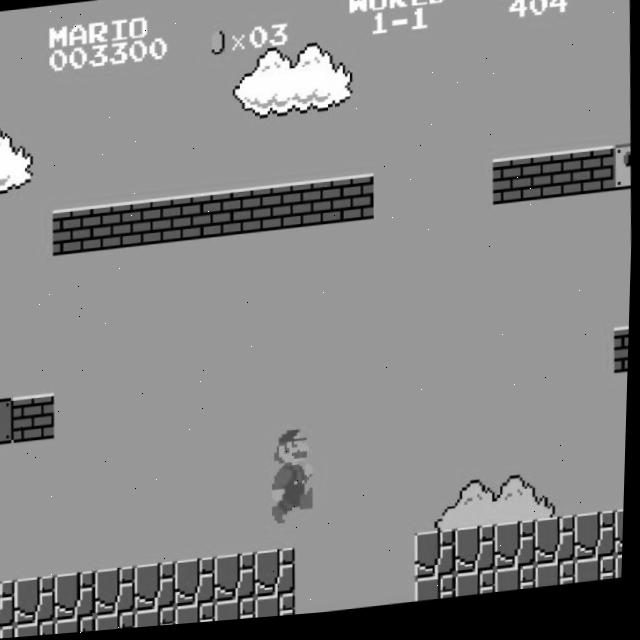1- brick_block: (14, 393, 58, 443), (92, 203, 136, 252), (132, 199, 176, 248), (172, 195, 216, 244), (212, 192, 256, 241), (492, 164, 536, 213), (532, 160, 576, 209), (52, 208, 96, 256), (252, 188, 296, 236), (292, 184, 336, 232), (332, 180, 376, 228), (572, 156, 616, 204), (614, 335, 631, 383)
13- mystery_block: (612, 153, 633, 201)
17- undestructible_block: (16, 576, 60, 626), (136, 564, 180, 614), (176, 560, 220, 610), (216, 556, 260, 606), (256, 552, 300, 602), (416, 536, 460, 586), (456, 532, 500, 582), (536, 524, 580, 574), (576, 520, 620, 570), (56, 572, 100, 621), (96, 568, 140, 617), (496, 529, 540, 578), (497, 573, 540, 600), (537, 570, 580, 597), (577, 566, 620, 593), (257, 597, 300, 623), (417, 582, 460, 608), (457, 578, 500, 604), (217, 601, 260, 625), (177, 605, 220, 628), (0, 579, 19, 628), (137, 610, 180, 630), (97, 613, 139, 633), (57, 617, 99, 635), (17, 621, 59, 638), (616, 518, 627, 566), (0, 625, 18, 639), (617, 564, 626, 587)
3- empty_block: (0, 397, 17, 445)
